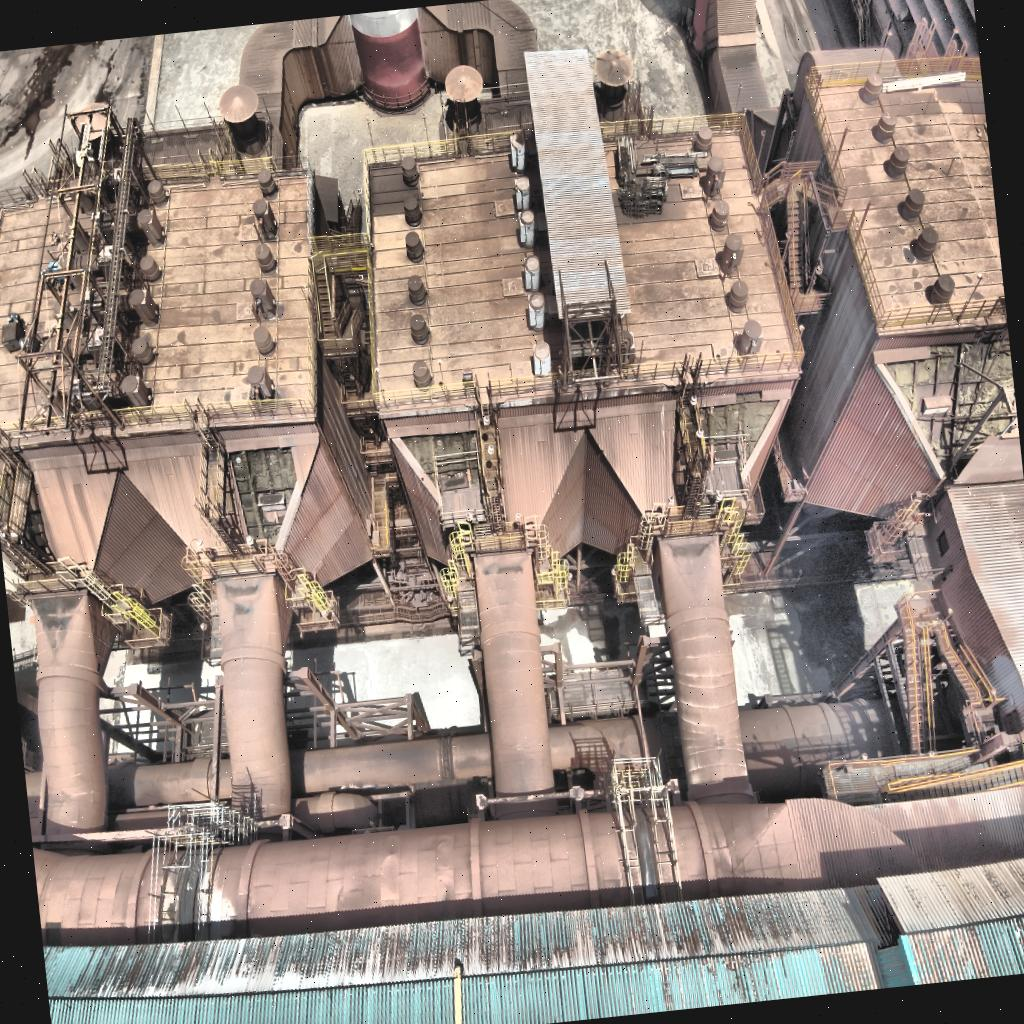Failures: (877, 336, 1021, 482), (696, 387, 787, 476), (228, 442, 302, 544), (398, 422, 482, 496), (44, 919, 63, 947)
